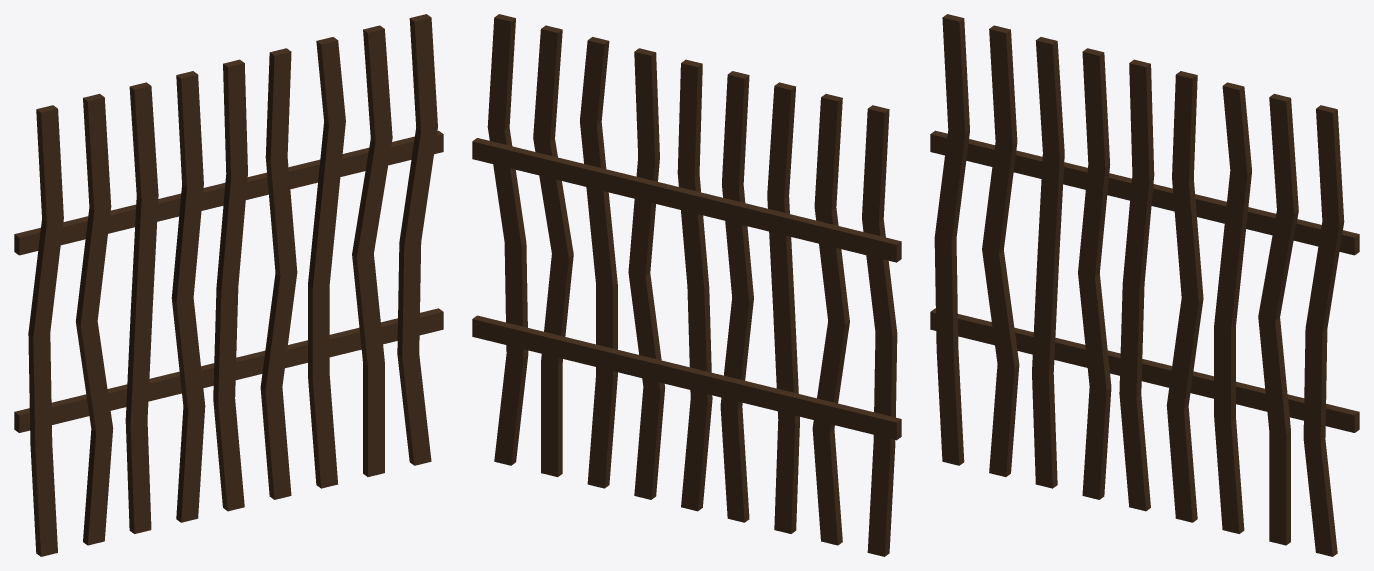
Rendered from Fence_11_Dark_Brown.fbx.
The picture shows the model from 3 angles, left to right: view 1: azimuth 30°, elevation 25°; view 2: azimuth 150°, elevation 25°; view 3: azimuth 330°, elevation 25°; orthographic projection.
Visible parts, largest first — view 1: Fence_11_Dark_Brown; view 2: Fence_11_Dark_Brown; view 3: Fence_11_Dark_Brown.
Boxes of the visible parts, box(x1,y1,x2,y2) form: Fence_11_Dark_Brown: box(14, 14, 443, 556); Fence_11_Dark_Brown: box(472, 14, 901, 556); Fence_11_Dark_Brown: box(930, 14, 1359, 556).
Bounding box in the file's own units: 100 × 100 × 4.
